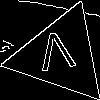V: (35, 30, 78, 81)
